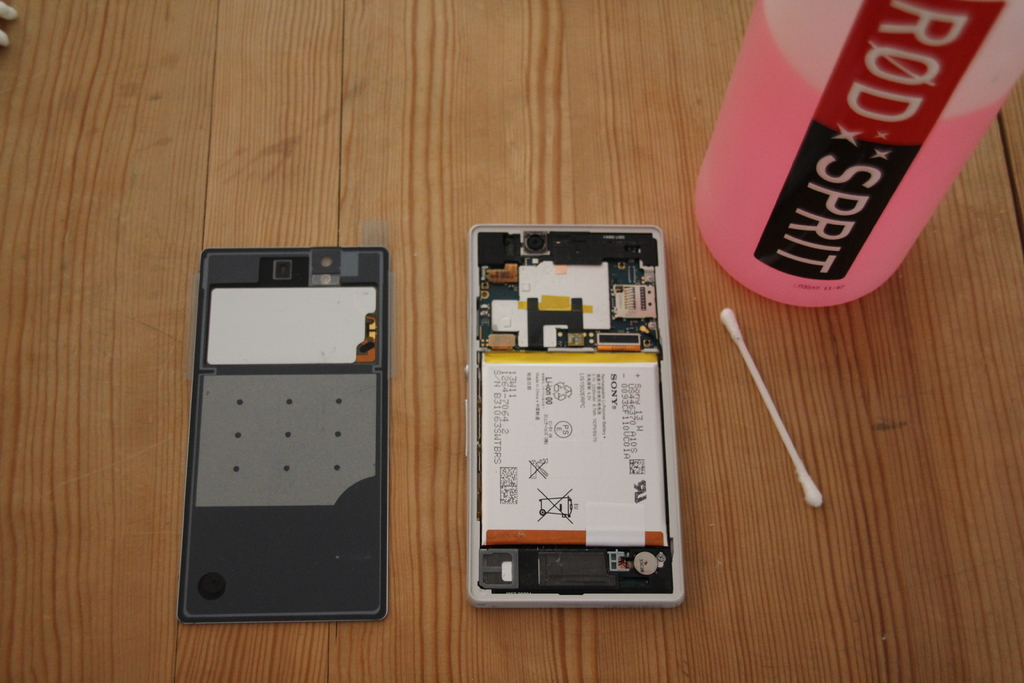mobile phone: (468, 224, 686, 613), (174, 246, 392, 625)
